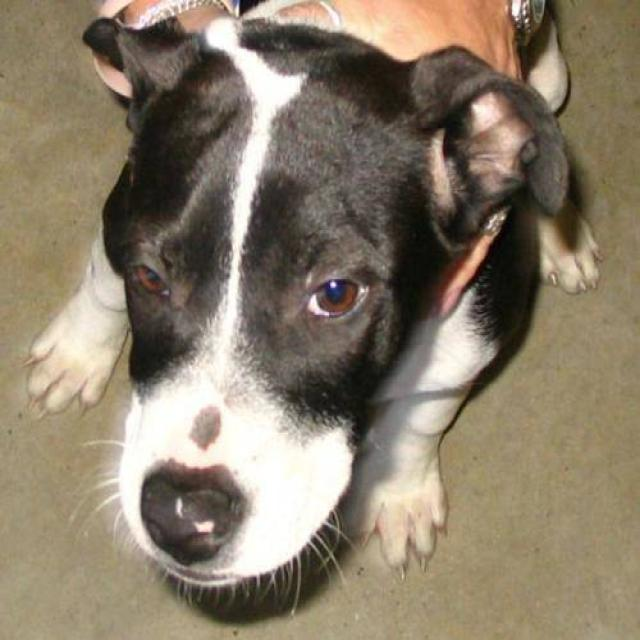dog: (21, 0, 602, 623)
